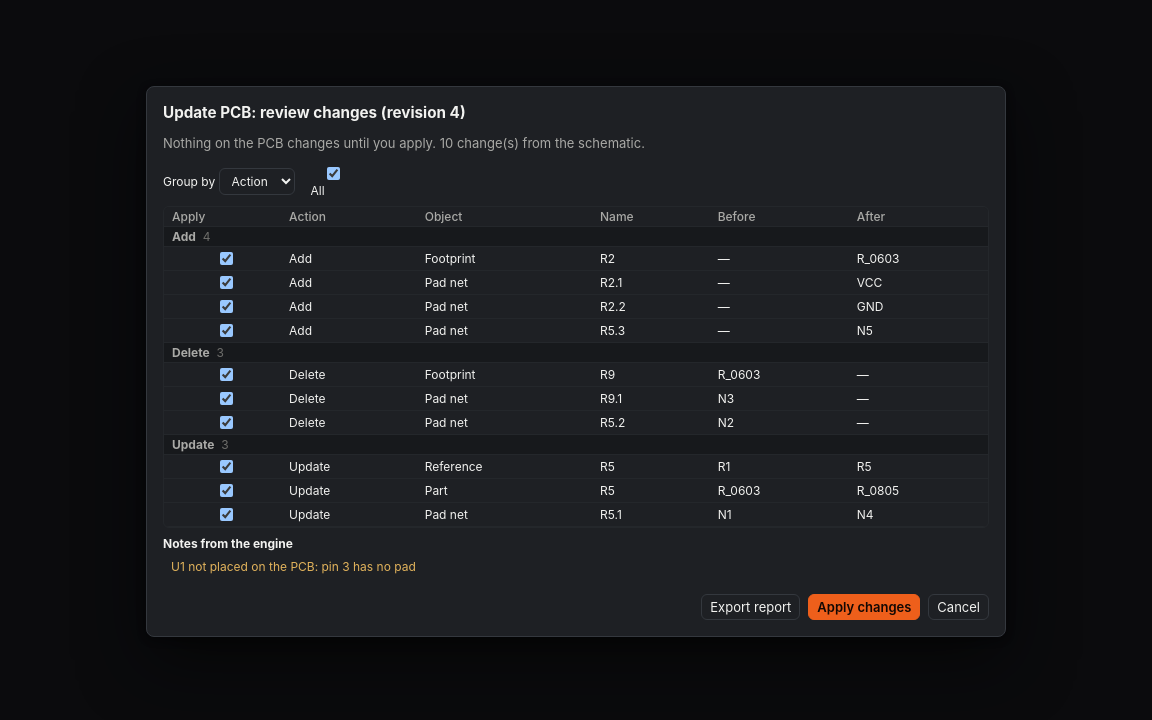
ECO review dialog › with some changes unchecked, Apply sends only the checked ones and says how many
Later steps or results of the test are not shown.
Click the checkbox named "Apply Add Footprint R2".
click(227, 259)  # box [176,252,277,265]
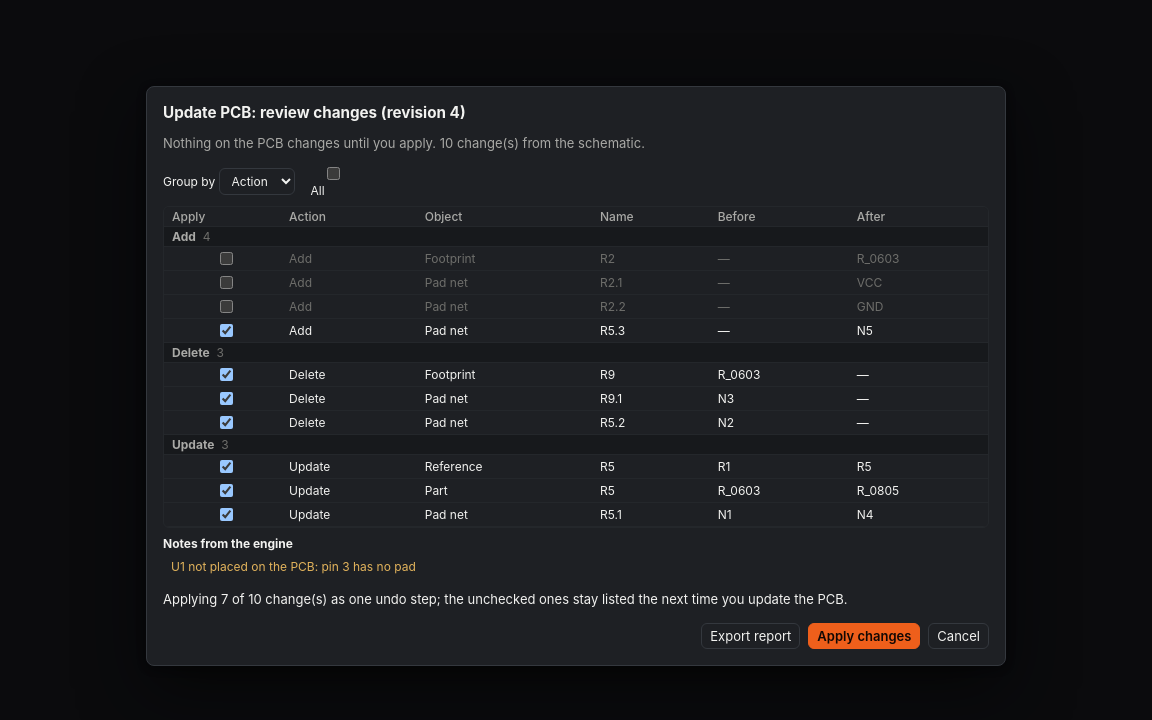
Expected: the button "Apply changes" is enabled, [808,623,920,649]
Expected: the text "Applying 7 of 10 change(s) as one undo step" is shown, [163,591,848,607]
